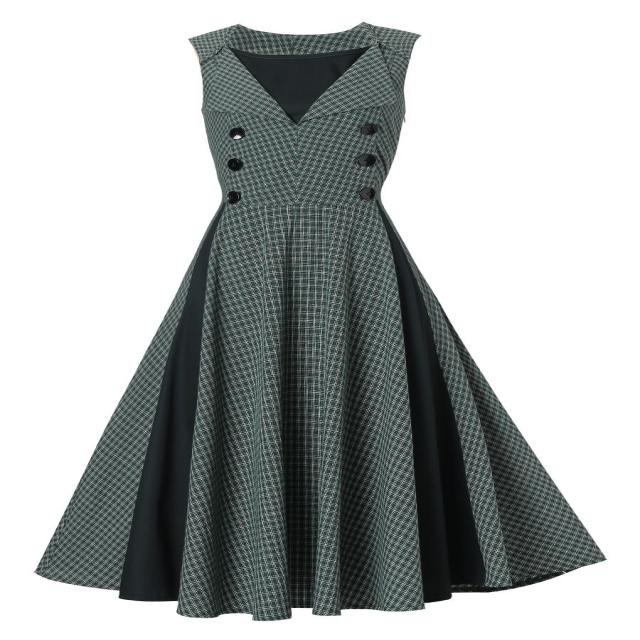Dress: (52, 12, 601, 622)
